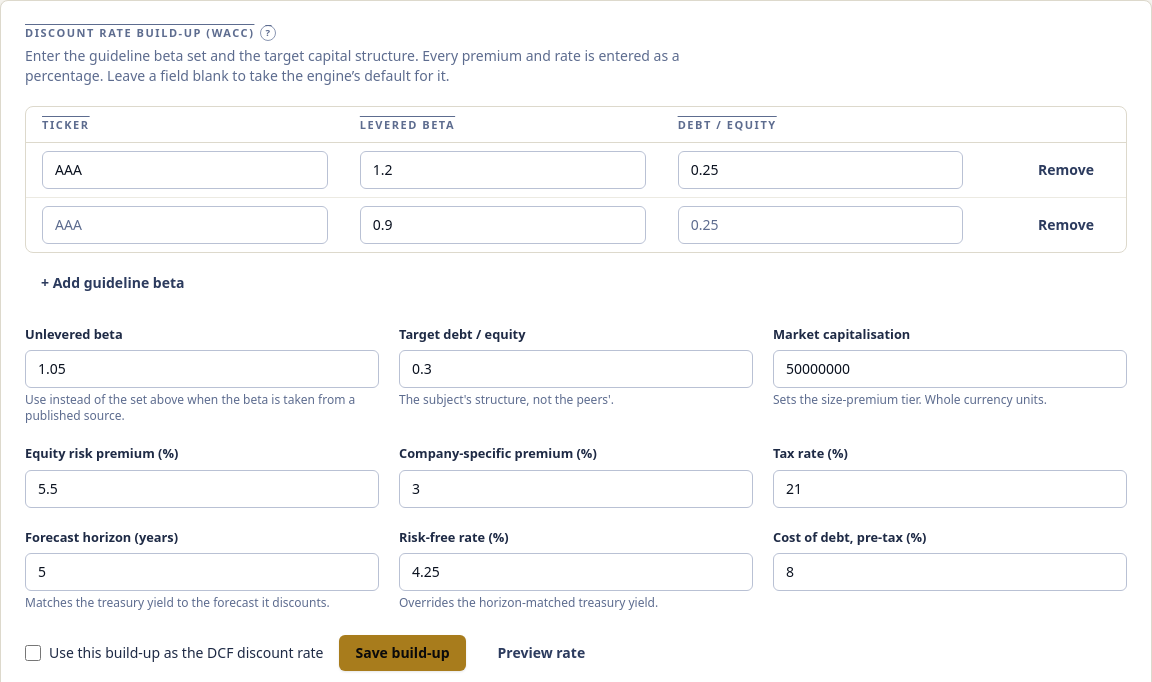
Test case: WaccPanel › saving › reports a rejected save and shows no confirmation
The width and height of the screenshot is (1152, 682).
Click the button "Save build-up": (403,653) [340, 635, 466, 671]
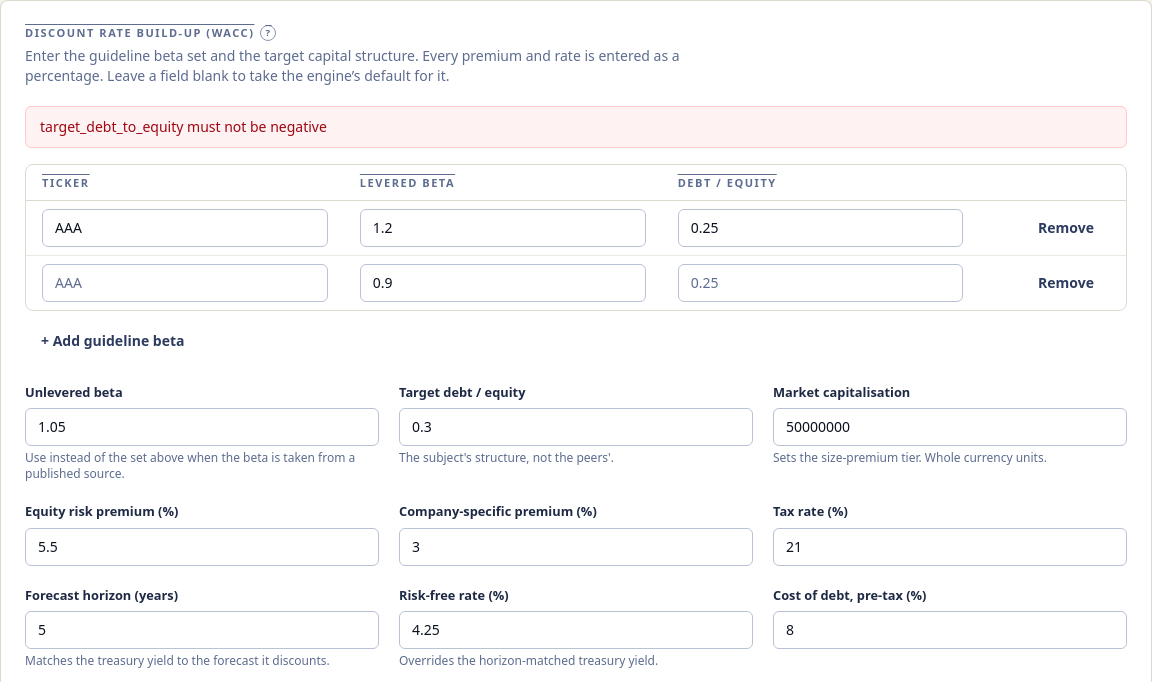
Result: the message reads "target_debt_to_equity must not be negative" at [40, 116, 327, 136]
